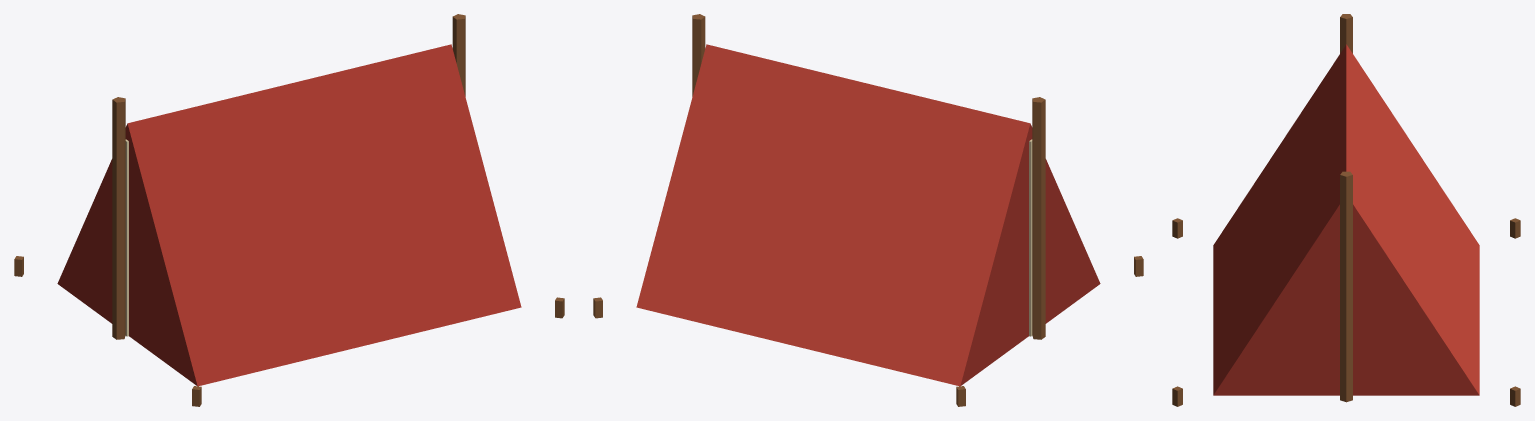
File: tent_detailedClosed.glb
3 renders of one model, left to right at view 1: azimuth 30°, elevation 25°; view 2: azimuth 150°, elevation 25°; view 3: azimuth 270°, elevation 25°, orthographic. The views are drawn at different scales.
Visible parts, largest first — view 1: tent_detailedClosed; view 2: tent_detailedClosed; view 3: tent_detailedClosed.
Boxes of the visible parts, x1,y1,x2,y2 form: tent_detailedClosed: (14, 14, 564, 406); tent_detailedClosed: (593, 14, 1143, 406); tent_detailedClosed: (1172, 14, 1520, 406).
Bounding box in the file's own units: 0.92 × 0.56 × 0.784.
Materials: 1 (1 with a texture image).
